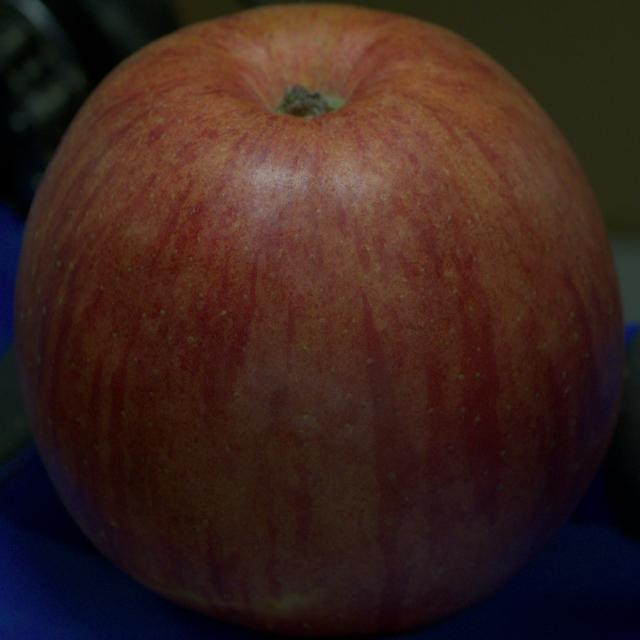apple: (14, 4, 624, 636)
